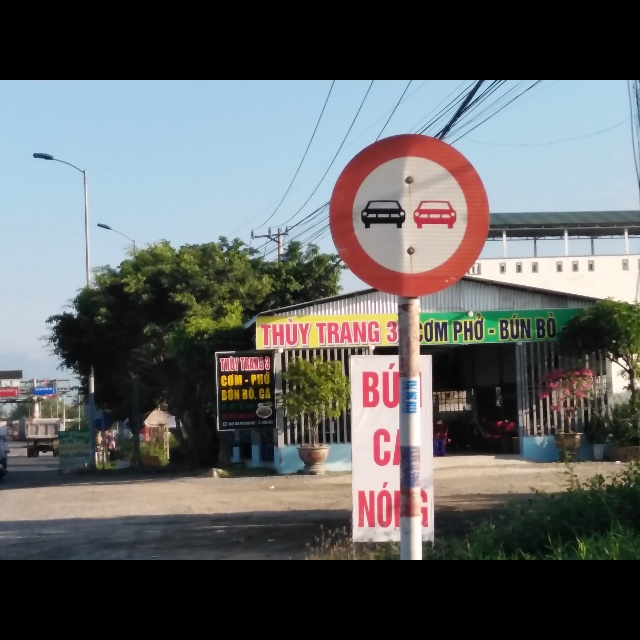Cấm vượt: (324, 136, 491, 296)
